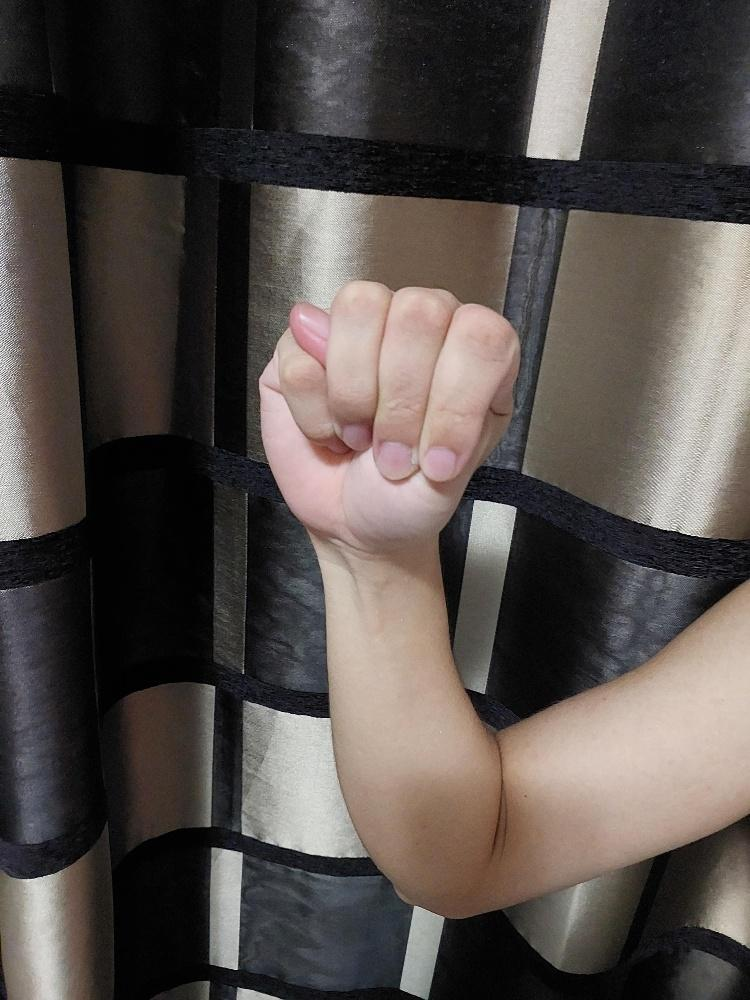m: (256, 277, 526, 554)
